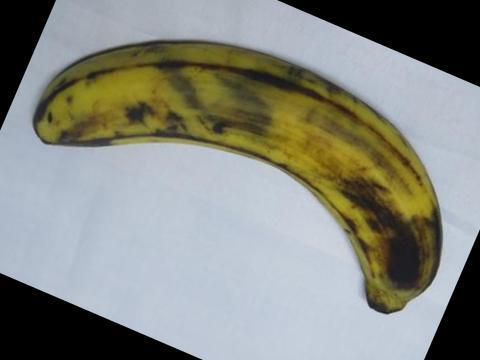overripe: (29, 26, 457, 326)
